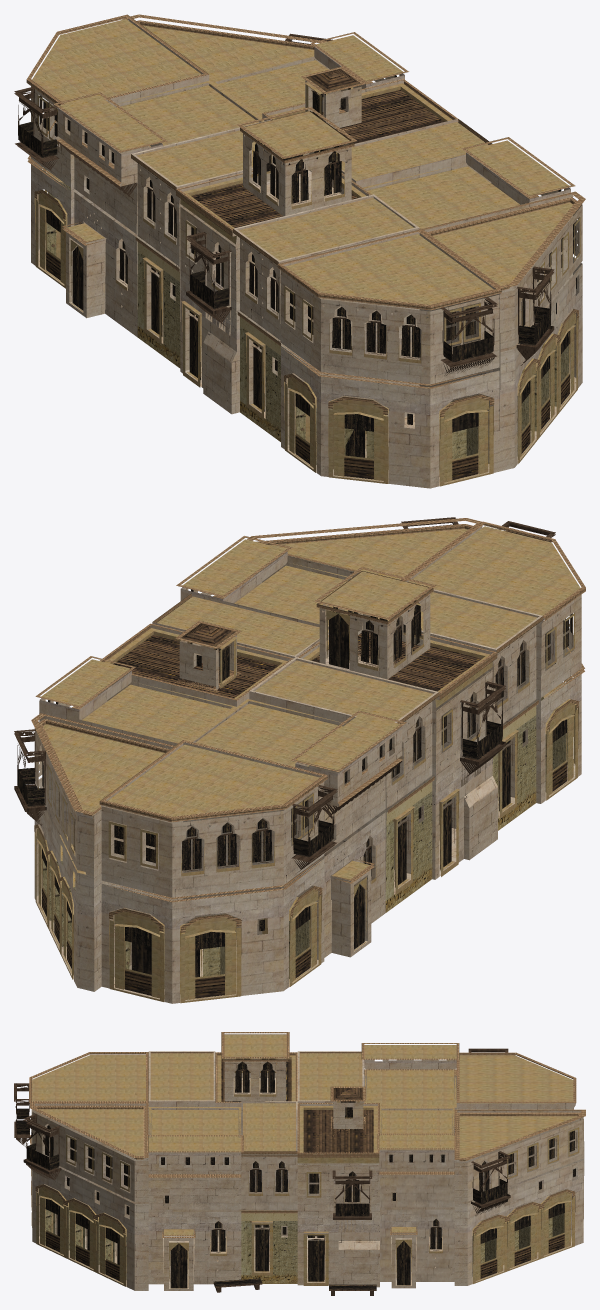
Rendered from arab_house_c.gltf.
The picture shows the model from 3 angles, top to bottom: view 1: azimuth 30°, elevation 25°; view 2: azimuth 150°, elevation 25°; view 3: azimuth 270°, elevation 25°; orthographic projection. The views are drawn at different scales.
Parts seen in each view (by area): view 1: BLOCK_III1_1_MarbleTiles0040_1_S_1_.2_0; view 2: BLOCK_III1_1_MarbleTiles0040_1_S_1_.2_0; view 3: BLOCK_III1_1_MarbleTiles0040_1_S_1_.2_0.
Part boxes in pixels (bbox=[...]): BLOCK_III1_1_MarbleTiles0040_1_S_1_.2_0: bbox=[14, 14, 585, 488]; BLOCK_III1_1_MarbleTiles0040_1_S_1_.2_0: bbox=[14, 517, 585, 1003]; BLOCK_III1_1_MarbleTiles0040_1_S_1_.2_0: bbox=[14, 1032, 585, 1295].
Size of the model in its own units: 12.97 by 9 by 26.85.
Materials: 8 (8 with a texture image).
